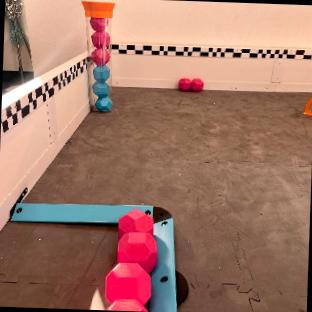V5_BLUE: (93, 66, 111, 111)
V5_RED: (105, 210, 158, 311), (106, 262, 151, 311), (91, 19, 110, 64), (108, 300, 147, 311)
